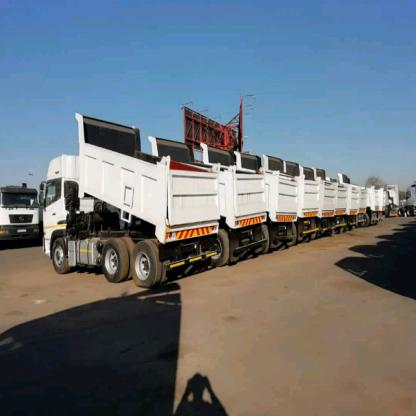dump_truck: (35, 87, 214, 307), (211, 147, 269, 279), (270, 160, 303, 244), (300, 166, 324, 244), (322, 179, 340, 223)
